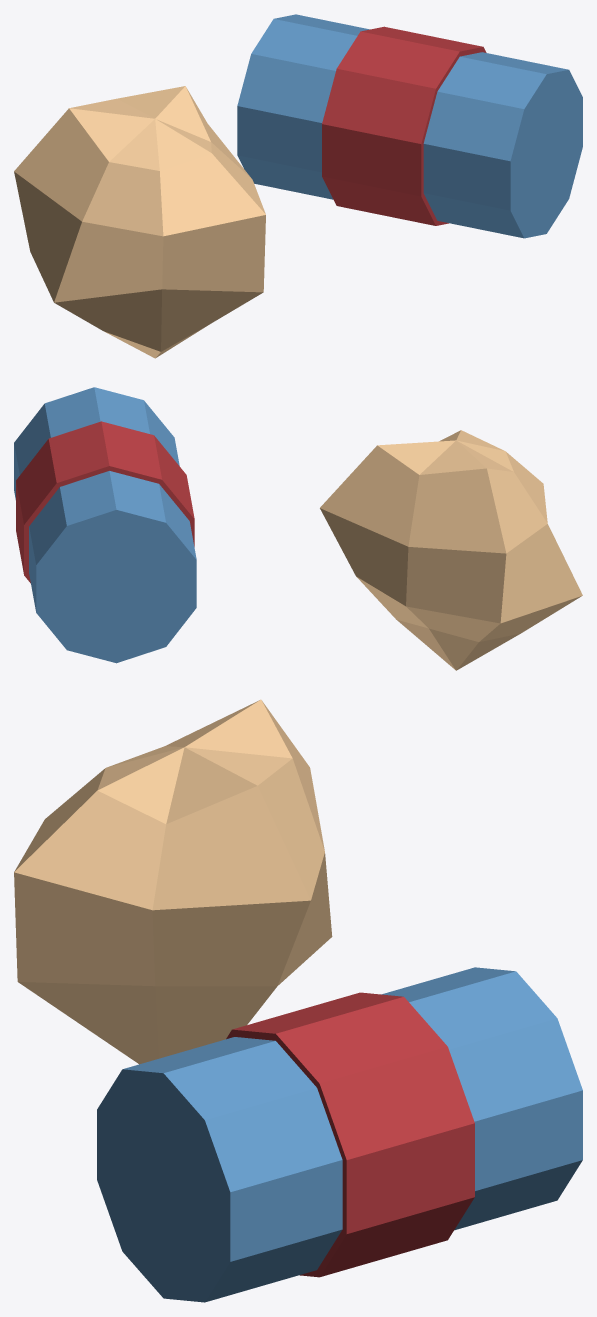
Rendered from decor_litter.glb.
3 renders of one model, top to bottom at view 1: azimuth 30°, elevation 25°; view 2: azimuth 150°, elevation 25°; view 3: azimuth 270°, elevation 25°, orthographic. The views are drawn at different scales.
Visible parts, largest first — view 1: decor_litter; view 2: decor_litter; view 3: decor_litter.
Boxes of the visible parts, x1,y1,x2,y2 form: decor_litter: (14,14,582,358); decor_litter: (14,387,582,670); decor_litter: (14,699,582,1302).
Bounding box in the file's own units: 0.235 × 0.0981 × 0.1465.
